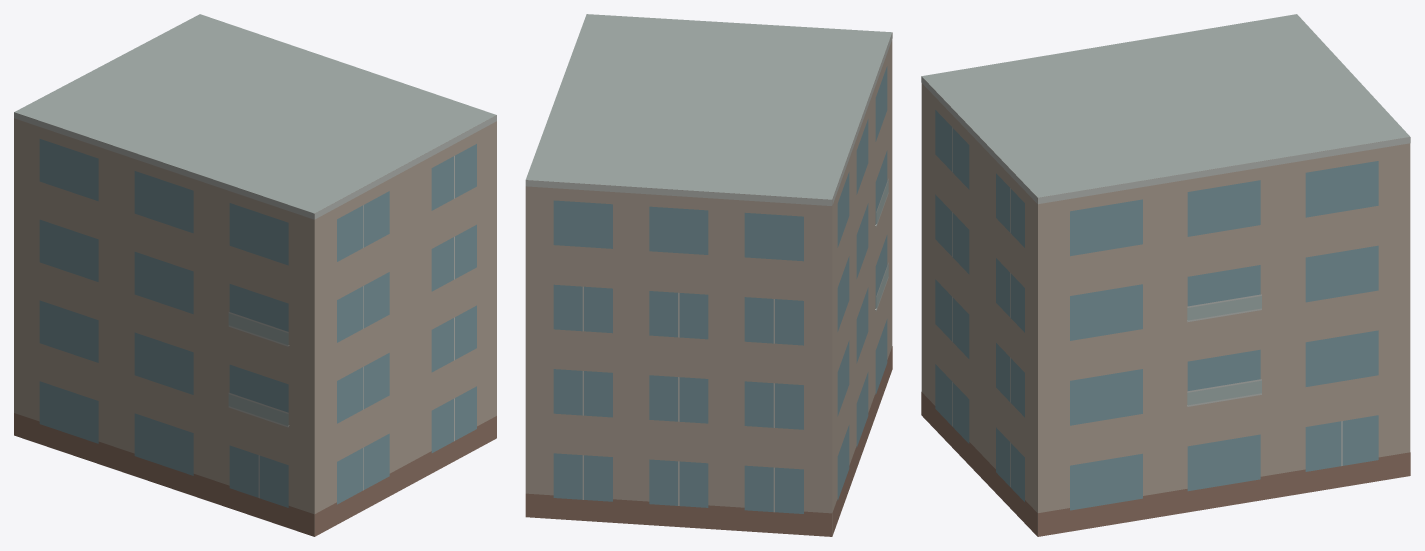
File: survey-upis-32737366.glb
3 views of the same model, side by side, from view 1: azimuth 30°, elevation 25°; view 2: azimuth 150°, elevation 25°; view 3: azimuth 270°, elevation 25° (orthographic). The views are drawn at different scales.
Visible parts, largest first — view 1: survey-upis-32737366.tmp; view 2: survey-upis-32737366.tmp; view 3: survey-upis-32737366.tmp.
Part boxes in pixels (<box>): survey-upis-32737366.tmp: <box>14,14,496,536</box>; survey-upis-32737366.tmp: <box>525,14,892,536</box>; survey-upis-32737366.tmp: <box>921,14,1410,536</box>.
Size of the model in its own units: 14.89 by 12.8 by 16.74.
